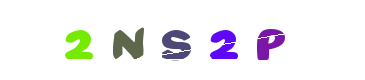2: (39, 0, 119, 80), (184, 0, 264, 80)
N: (110, 0, 190, 80)
P: (226, 0, 306, 80)
S: (143, 0, 223, 80)
